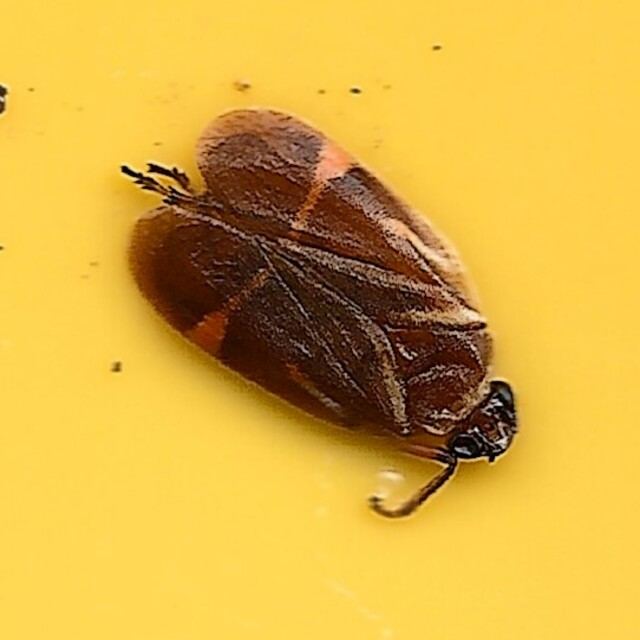Hemiptera: (118, 119, 522, 521)
